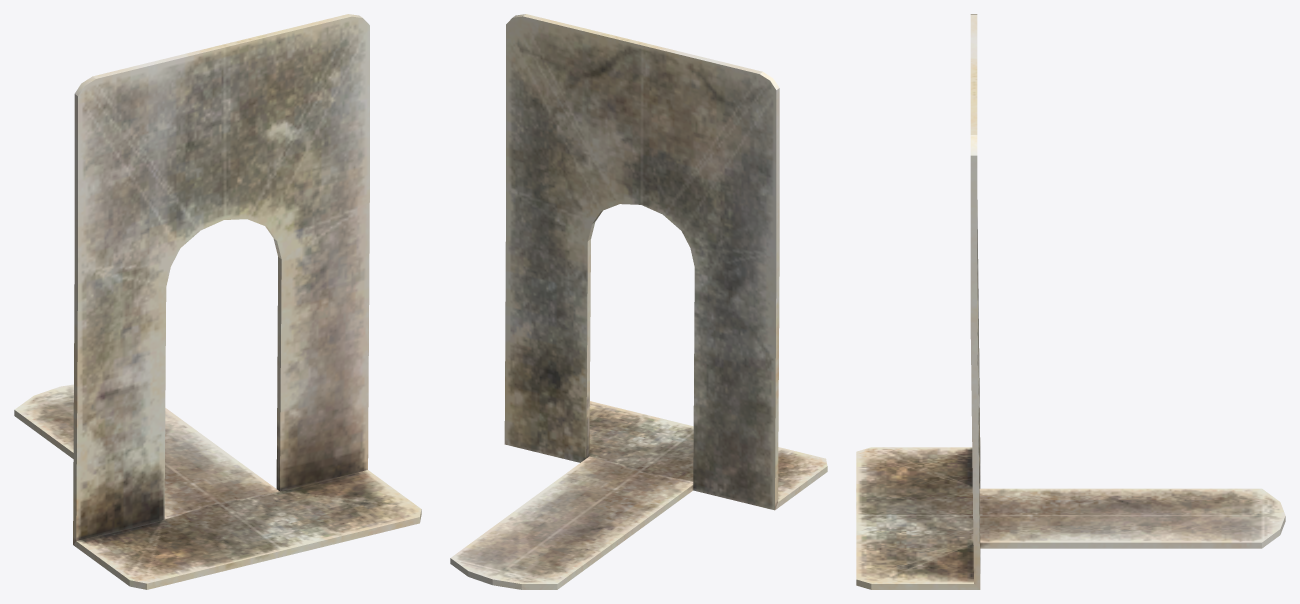
File: bookpartition02.FBX
3 renders of one model, left to right at view 1: azimuth 30°, elevation 25°; view 2: azimuth 150°, elevation 25°; view 3: azimuth 270°, elevation 25°, orthographic. The views are drawn at different scales.
Visible parts, largest first — view 1: SM_BookPartition02; view 2: SM_BookPartition02; view 3: SM_BookPartition02.
Boxes of the visible parts, x1,y1,x2,y2 form: SM_BookPartition02: [14, 14, 421, 589]; SM_BookPartition02: [450, 14, 827, 589]; SM_BookPartition02: [856, 14, 1285, 589].
Bounding box in the file's own units: 16.36 × 24.94 × 21.72.
1 material, 1 textured.
